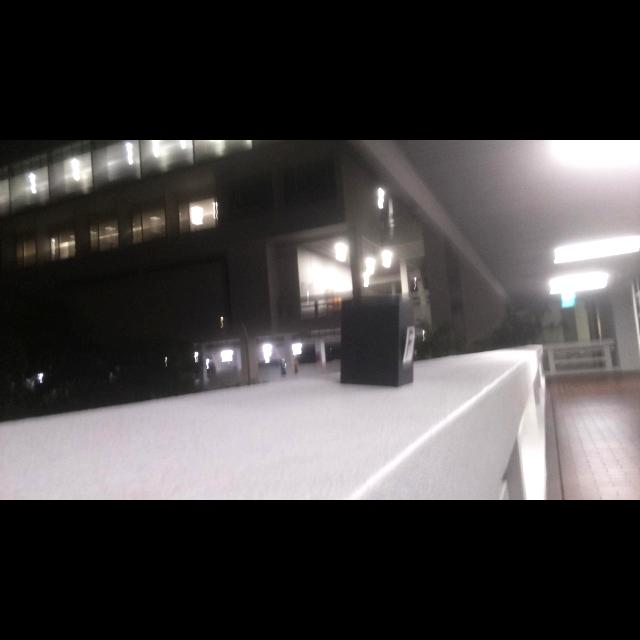F: (406, 330, 413, 357)
